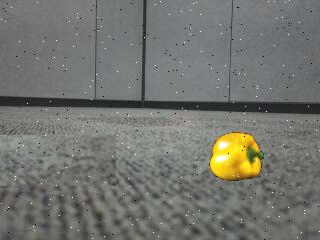Capsicum: (207, 132, 265, 182)
